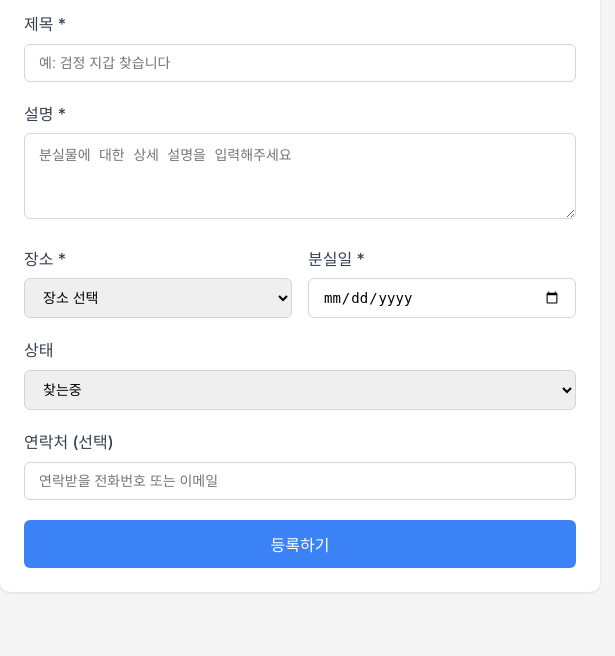
Test case: ItemForm › 설명이 비어있으면 에러를 표시한다
Type "검정 지갑 찾습니다" into the field labelled "제목 *" at (300, 63), box [24,44,576,82]
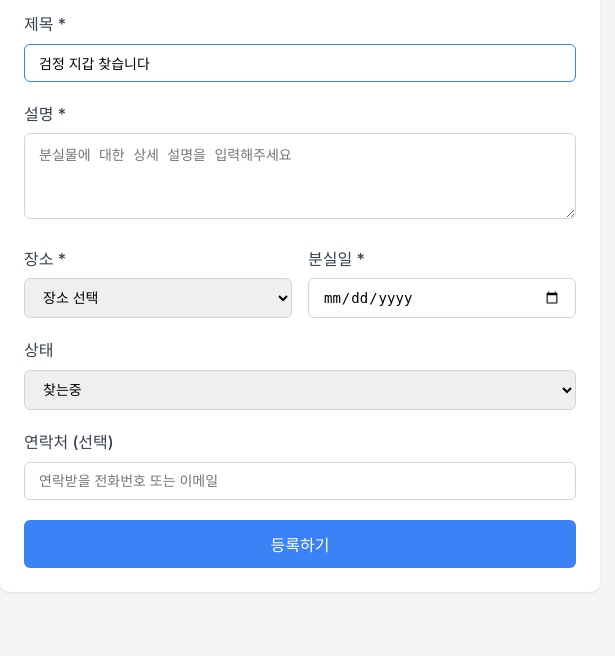
Click the button "등록하기" at (300, 544), box [24,520,576,568]
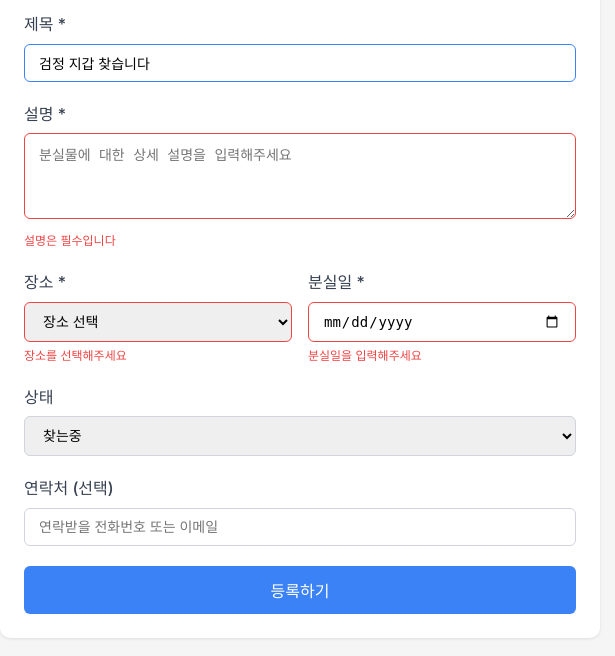
Expected: the text "설명은 필수입니다" is shown, [24,233,116,248]
